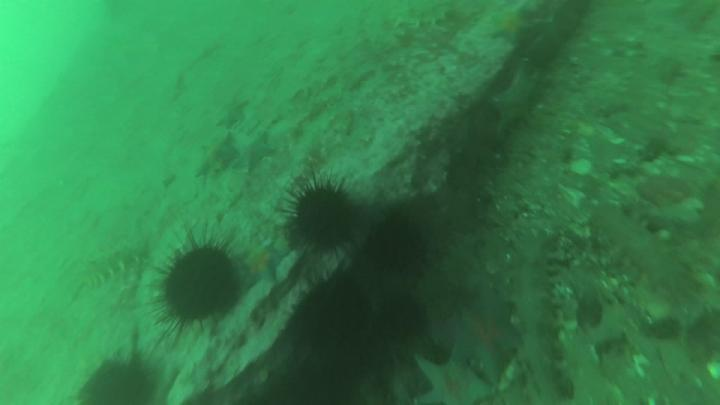echinus: (145, 227, 245, 342), (279, 173, 361, 267), (294, 283, 376, 367), (74, 350, 157, 405), (371, 213, 427, 269), (378, 290, 429, 340)
holothurian: (586, 201, 697, 303), (509, 230, 571, 405), (74, 241, 152, 295)
starfish: (438, 282, 526, 380), (488, 59, 544, 146), (242, 243, 289, 287), (197, 135, 241, 177), (487, 10, 535, 46), (237, 136, 278, 174), (214, 100, 254, 130)
